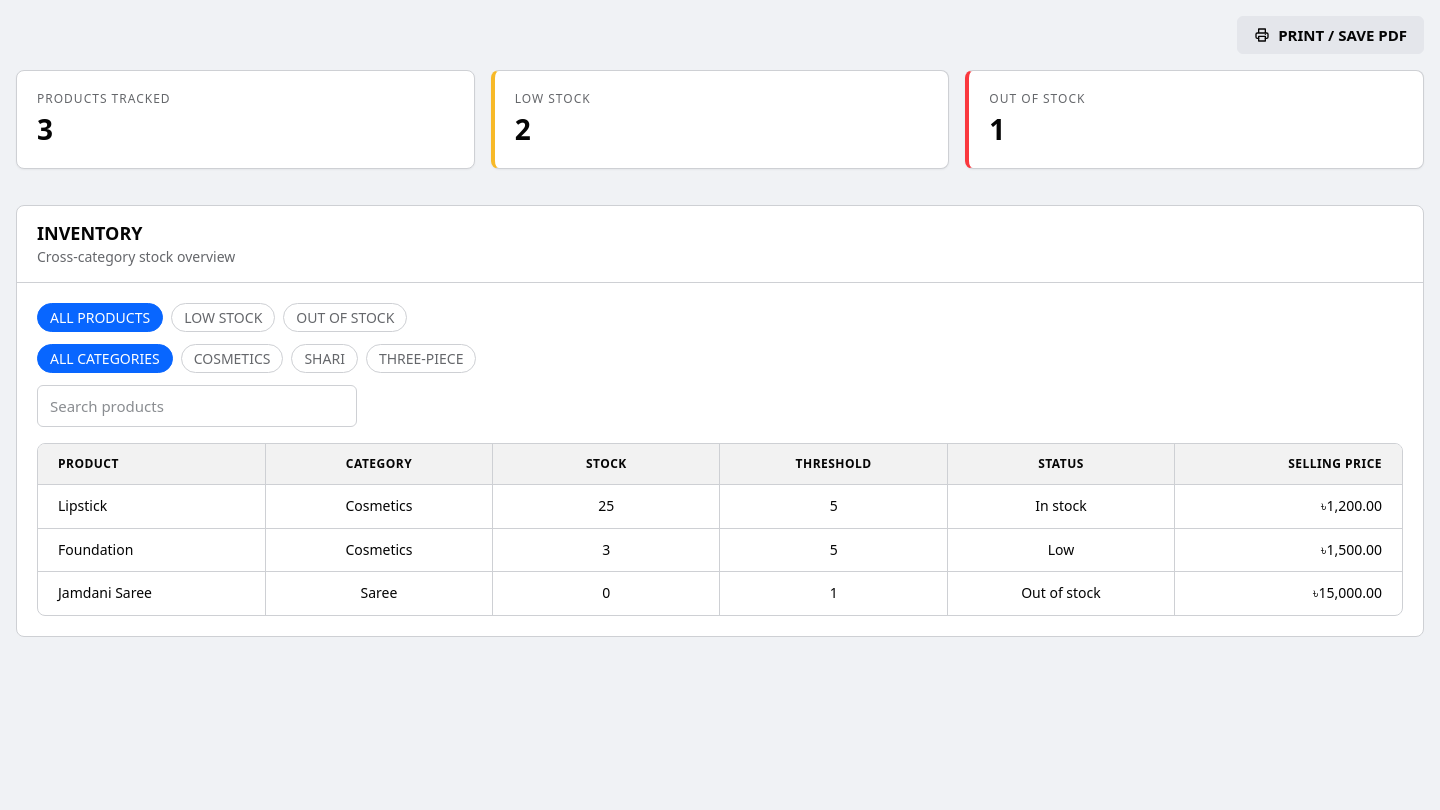
StockPage › filters by category
The width and height of the screenshot is (1440, 810).
Expected: the text "Lipstick" is shown, [58,496,107,515]
Click the button "Shari" at (325, 358), box [291,344,358,373]
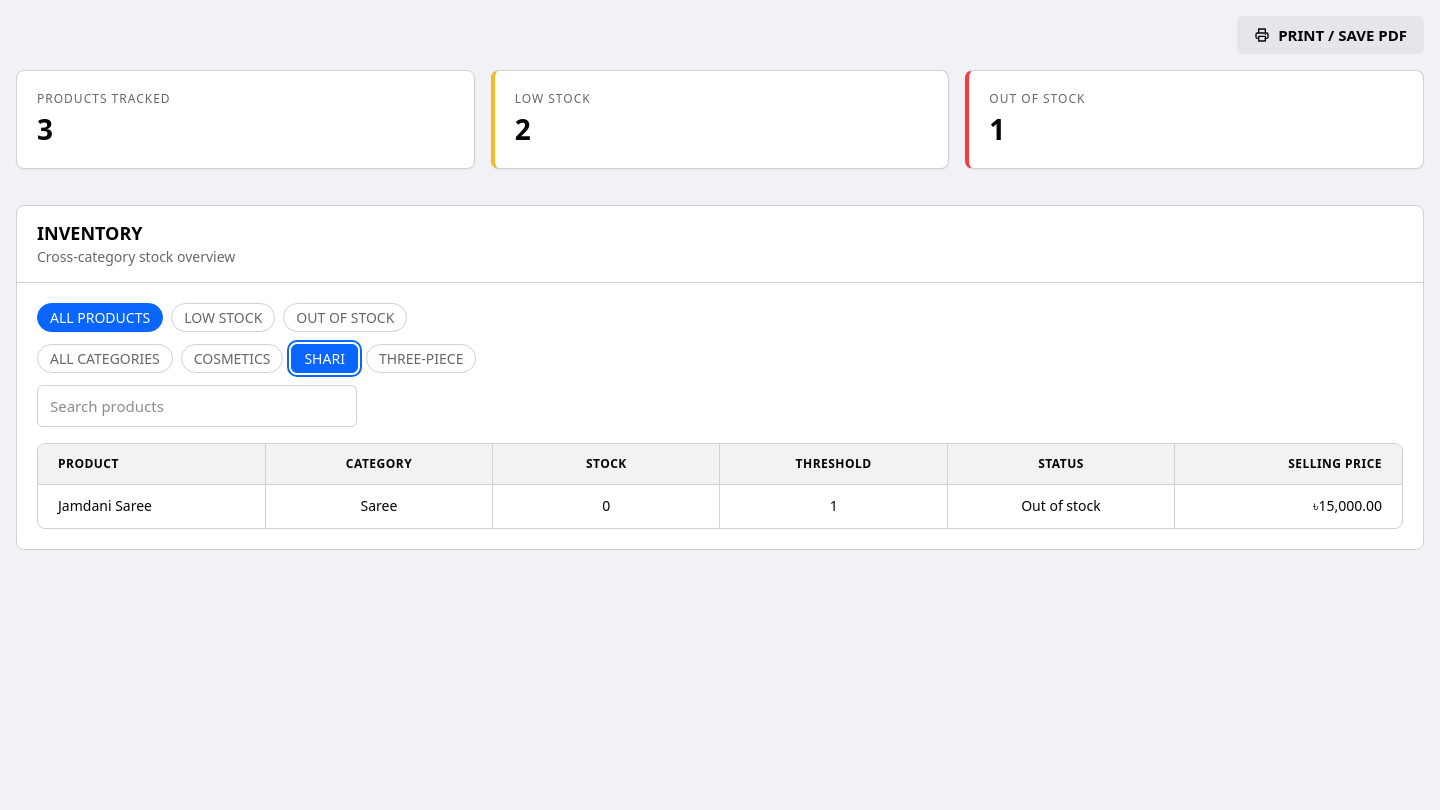
Expected: the text "Jamdani Saree" is shown, [58,496,152,515]
Result: the text "Lipstick" is gone
Result: the text "Foundation" is gone
